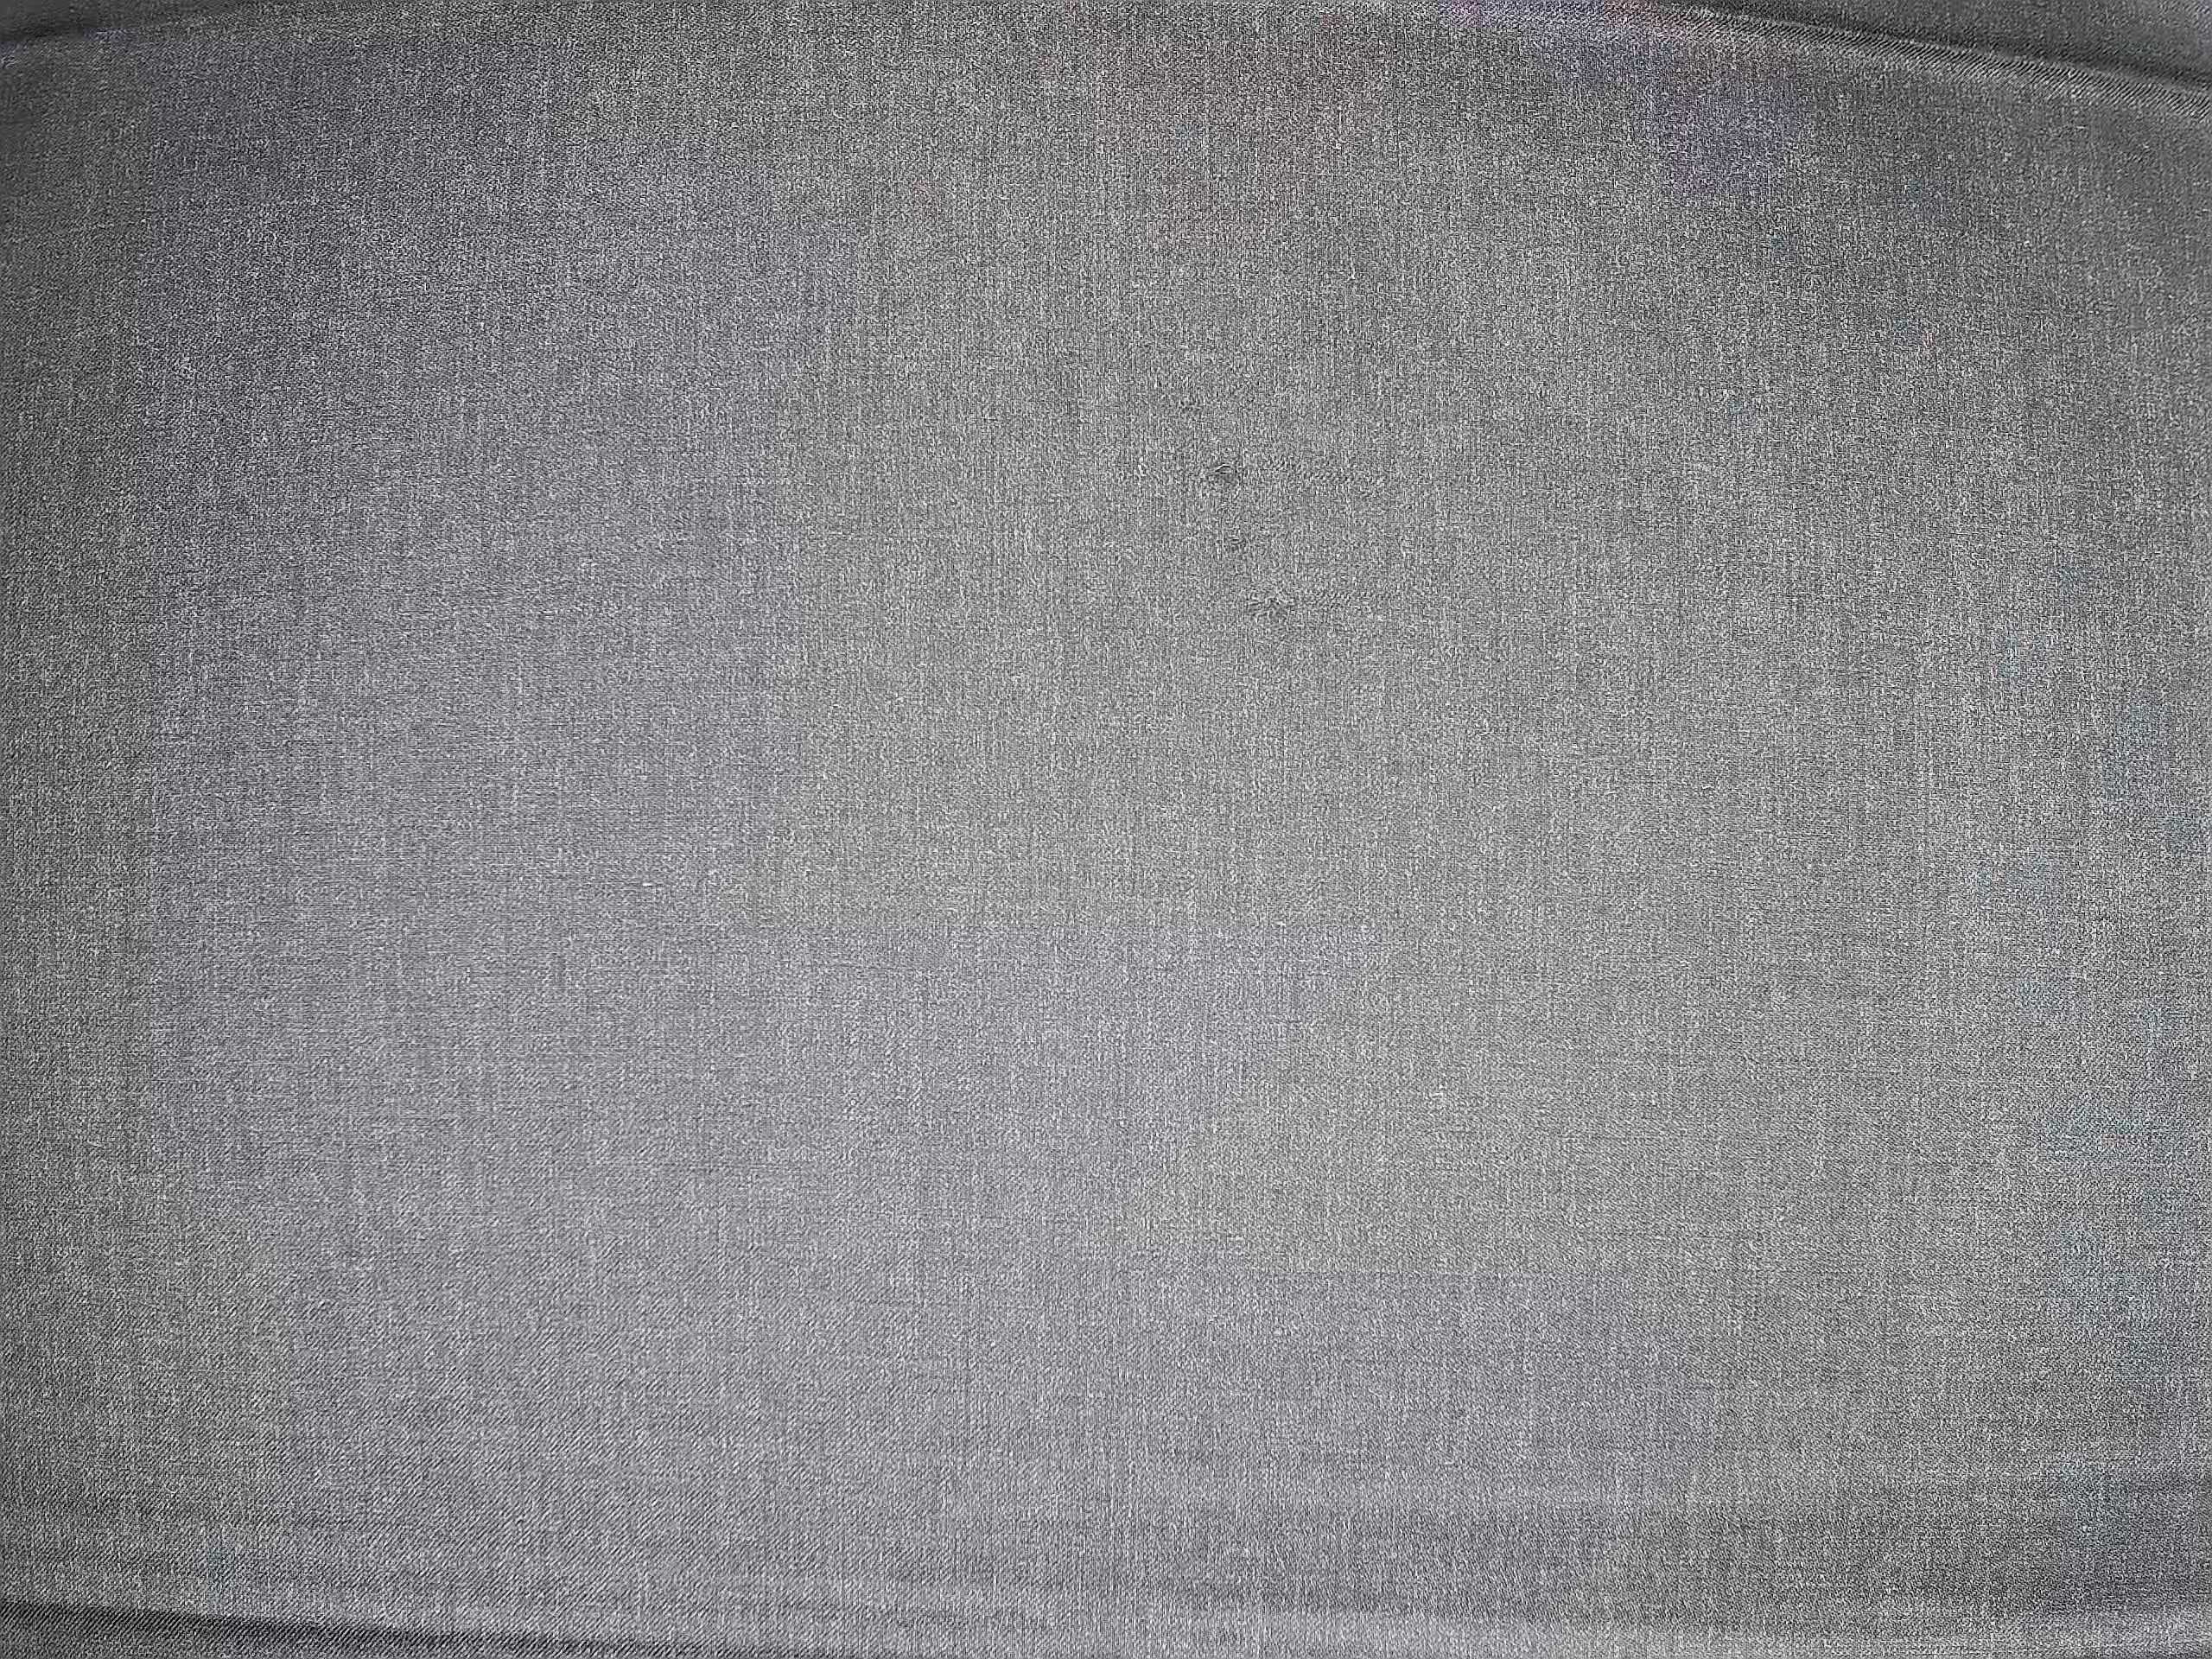rubbing-hole: (1249, 580, 1313, 633), (1198, 446, 1258, 502), (1214, 519, 1261, 570)
